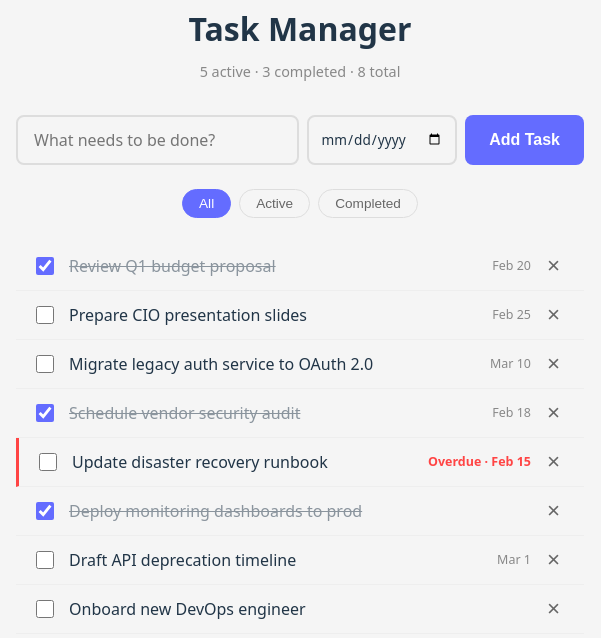
Test: Task Manager — End to End › deletes a task
Expected: the text "Onboard new DevOps engineer" is shown, [69, 597, 306, 621]
Step 1. Click the button named "Delete task" → (553, 609), box [539, 598, 568, 621]
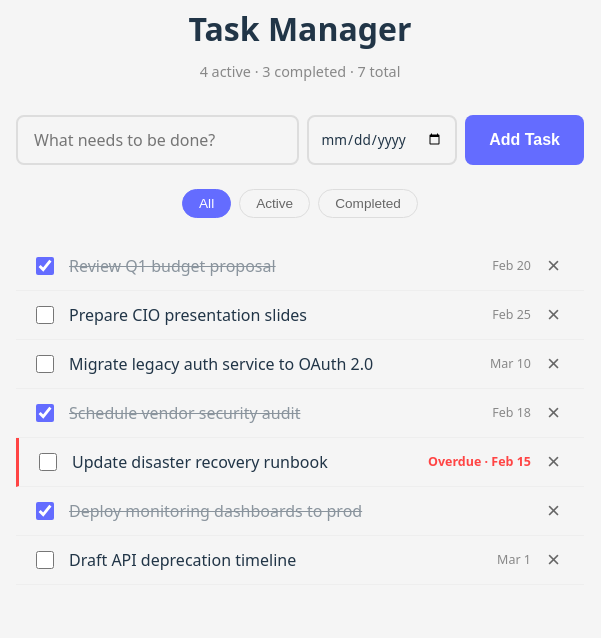
Result: the text "Onboard new DevOps engineer" is gone
Result: the text "4 active · 3 completed · 7 total" is shown at [200, 62, 400, 81]
